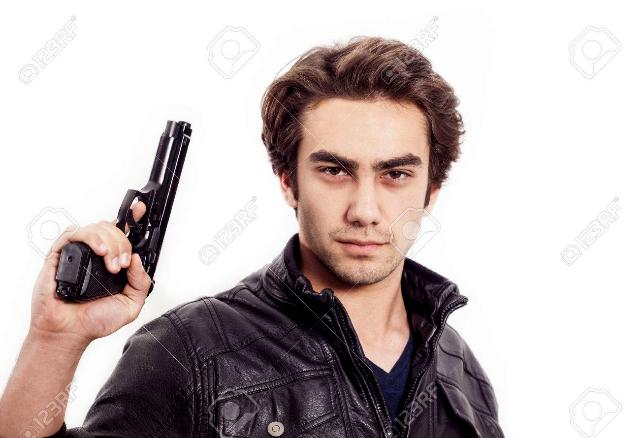pistol: (52, 119, 208, 300)
